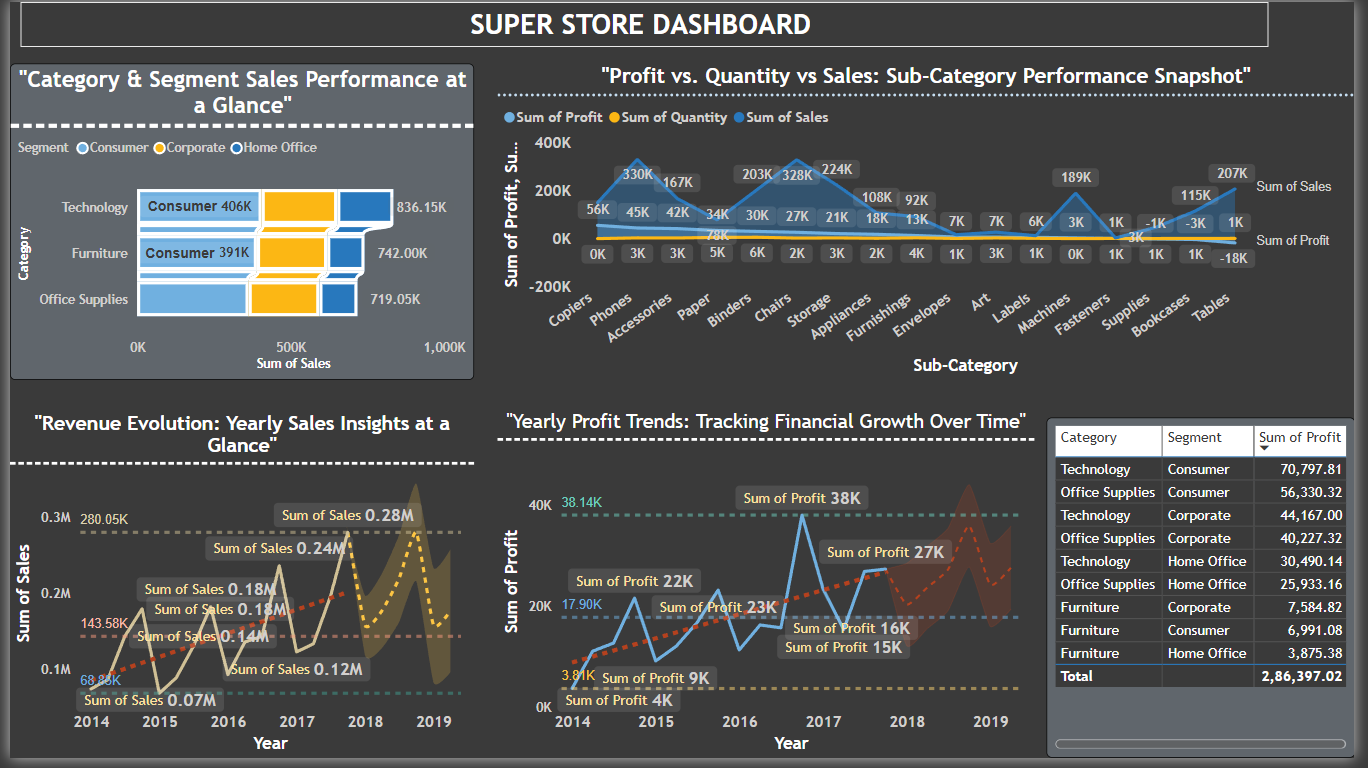

This screenshot's page, from the dashboard's own definition file:
{"tool":"powerbi","page":{"name":"Page 1","canvas":[1280,720],"ordinal":6},"visuals":[{"type":"textbox","box":[9.5,0,1189,42.6],"z":0},{"type":"barChart","title":"\"Category & Segment Sales Performance at a Glance\"","fields":{"Category":["WORK SHEET.Category"],"Y":["Sum(WORK SHEET.Sales)"],"Series":["WORK SHEET.Segment"]},"box":[0,58.1,442,301.4],"z":1000},{"type":"lineChart","title":"\"Profit vs. Quantity vs Sales: Sub-Category Performance Snapshot\"","fields":{"Category":["WORK SHEET.Sub-Category"],"Y":["Sum(WORK SHEET.Profit)","Sum(WORK SHEET.Quantity)","Sum(WORK SHEET.Sales)"]},"box":[464.2,58.4,816.3,301.6],"z":2000},{"type":"lineChart","title":"\"Revenue Evolution: Yearly Sales Insights at a Glance\"","fields":{"Category":["WORK SHEET.Order Date.Variation.Date Hierarchy.Year","WORK SHEET.Order Date.Variation.Date Hierarchy.Quarter"],"Y":["Sum(WORK SHEET.Sales)"]},"box":[0,390,442.1,330],"z":3000},{"type":"lineChart","title":"\"Yearly Profit Trends: Tracking Financial Growth Over Time\"","fields":{"Category":["WORK SHEET.Order Date.Variation.Date Hierarchy.Year","WORK SHEET.Order Date.Variation.Date Hierarchy.Quarter"],"Y":["Sum(WORK SHEET.Profit)"]},"box":[464.2,388.4,511.6,331.6],"z":4000},{"type":"tableEx","title":"\"Category & Segment Profit Performance at a Glance\"","fields":{"Values":["WORK SHEET.Category","WORK SHEET.Segment","Sum(WORK SHEET.Profit)"]},"box":[986.9,396.3,293.7,323.7],"z":4001}]}

Visuals, with their boxes in screenshot pixels (x1, y1, x2, y2), scaled from the page's 1280x720 canvas onto the 1368x768 screenshot:
textbox: {"left": 10, "top": 0, "right": 1281, "bottom": 45}
""Category & Segment Sales Performance at a Glance"" barChart: {"left": 0, "top": 62, "right": 472, "bottom": 383}
""Profit vs. Quantity vs Sales: Sub-Category Performance Snapshot"" lineChart: {"left": 496, "top": 62, "right": 1367, "bottom": 384}
""Revenue Evolution: Yearly Sales Insights at a Glance"" lineChart: {"left": 0, "top": 416, "right": 472, "bottom": 767}
""Yearly Profit Trends: Tracking Financial Growth Over Time"" lineChart: {"left": 496, "top": 414, "right": 1043, "bottom": 767}
""Category & Segment Profit Performance at a Glance"" tableEx: {"left": 1055, "top": 423, "right": 1367, "bottom": 767}
